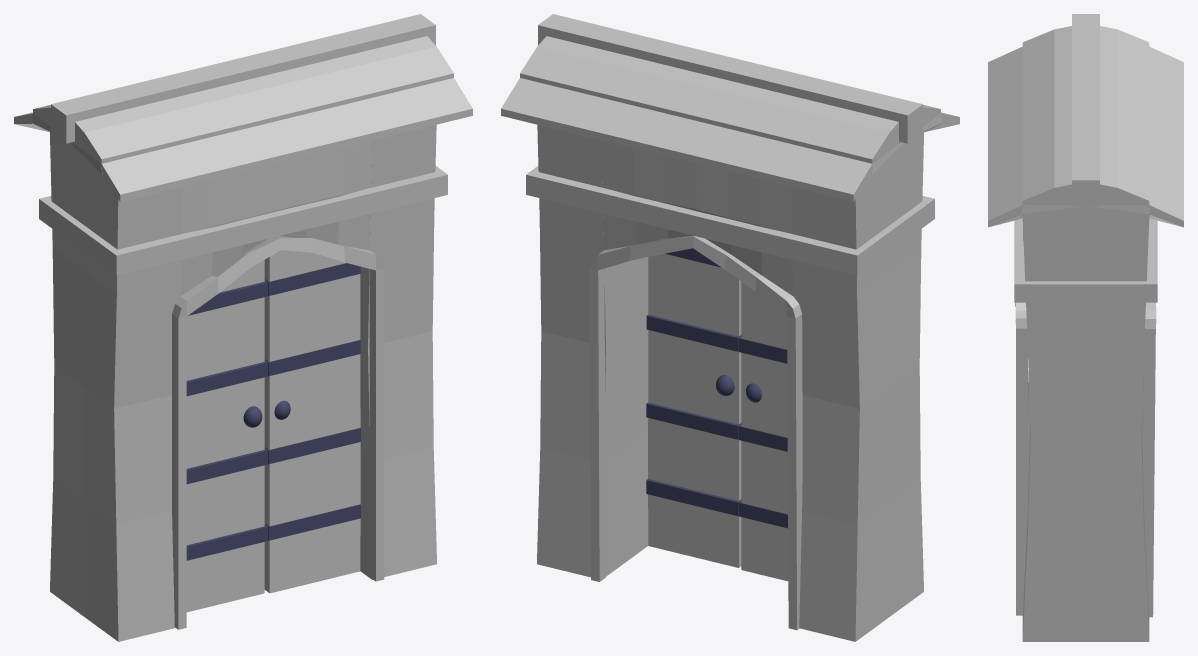
File: Wooden_Gate.fbx
3 renders of one model, left to right at view 1: azimuth 30°, elevation 25°; view 2: azimuth 150°, elevation 25°; view 3: azimuth 270°, elevation 25°, orthographic. The views are drawn at different scales.
Visible parts, largest first — view 1: Doorway, Door.R, Door.L; view 2: Doorway, Door.R, Door.L; view 3: Doorway.
Boxes of the visible parts, x1,y1,x2,y2 form: Doorway: (14,14,472,641); Door.R: (264,250,361,593); Door.L: (186,260,268,612); Doorway: (501,14,959,641); Door.R: (646,248,741,567); Door.L: (739,281,788,581); Doorway: (988,14,1183,641).
Size of the model in its own units: 452 by 600 by 225.
